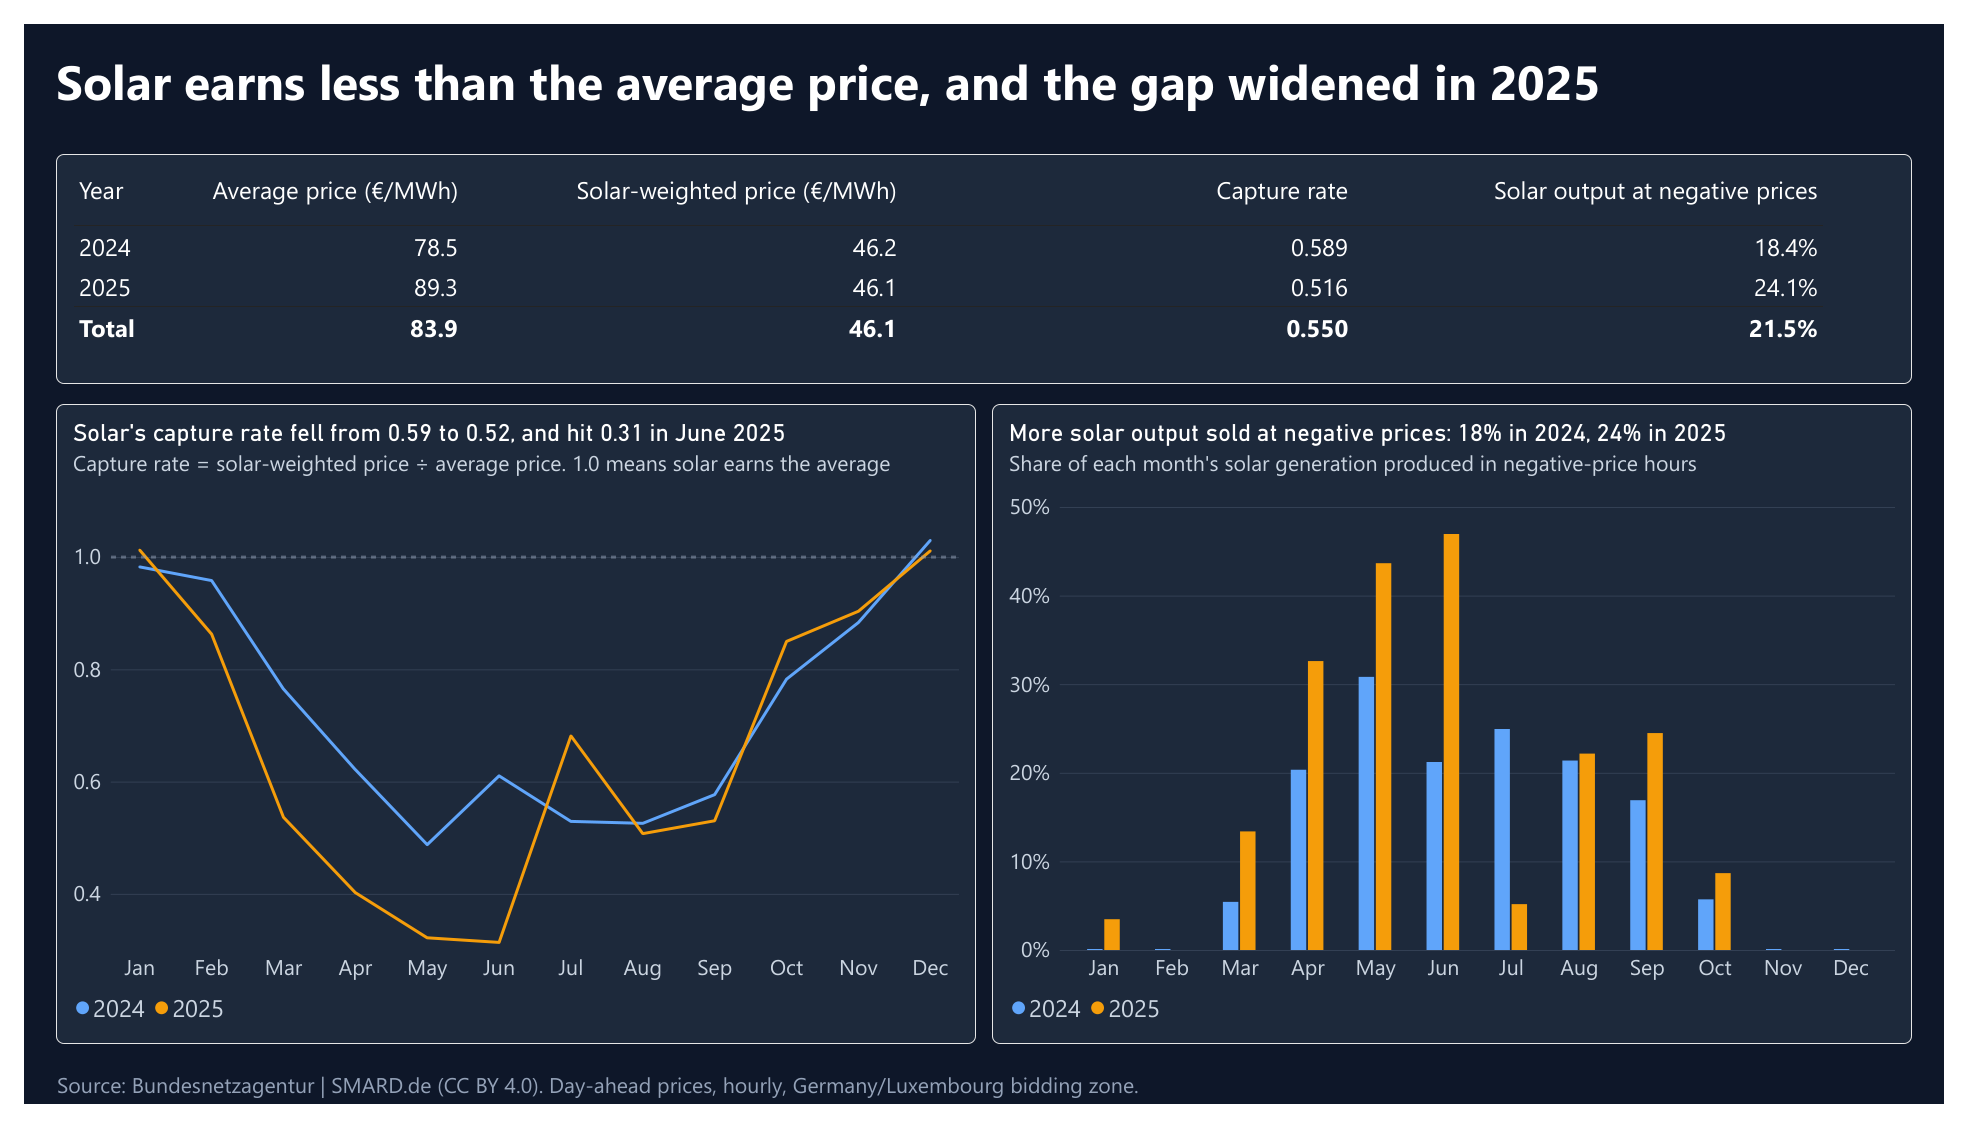

The page's visual inventory and layout, read from the dashboard file:
{"tool":"powerbi","page":{"name":"Page 3","canvas":[1920,1080],"ordinal":2},"visuals":[{"type":"tableEx","fields":{"Values":["market_hours.year","market_hours.Average Price","market_hours.Solar Weighted Price","market_hours.Capture Rate","market_hours.Solar Share at Negative Prices"]},"box":[0,0,601.4,159.5],"z":0},{"type":"lineChart","fields":{"Category":["market_hours.month_name"],"Series":["market_hours.year"],"Y":["market_hours.Capture Rate"]},"box":[0,159.8,805.2,572.6],"z":1000},{"type":"clusteredColumnChart","fields":{"Category":["market_hours.month_name"],"Series":["market_hours.year"],"Y":["market_hours.Solar Share at Negative Prices"]},"box":[0,732.4,804.6,347.4],"z":2000}]}

Visuals, with their boxes in screenshot pixels (x1, y1, x2, y2), scaled from the page's 1920x1080 canvas onto the 1968x1128 screenshot:
tableEx - market_hours.year x market_hours.Average Price: {"left": 0, "top": 0, "right": 616, "bottom": 167}
lineChart - market_hours.month_name x market_hours.year: {"left": 0, "top": 167, "right": 825, "bottom": 765}
clusteredColumnChart - market_hours.month_name x market_hours.year: {"left": 0, "top": 765, "right": 825, "bottom": 1127}
